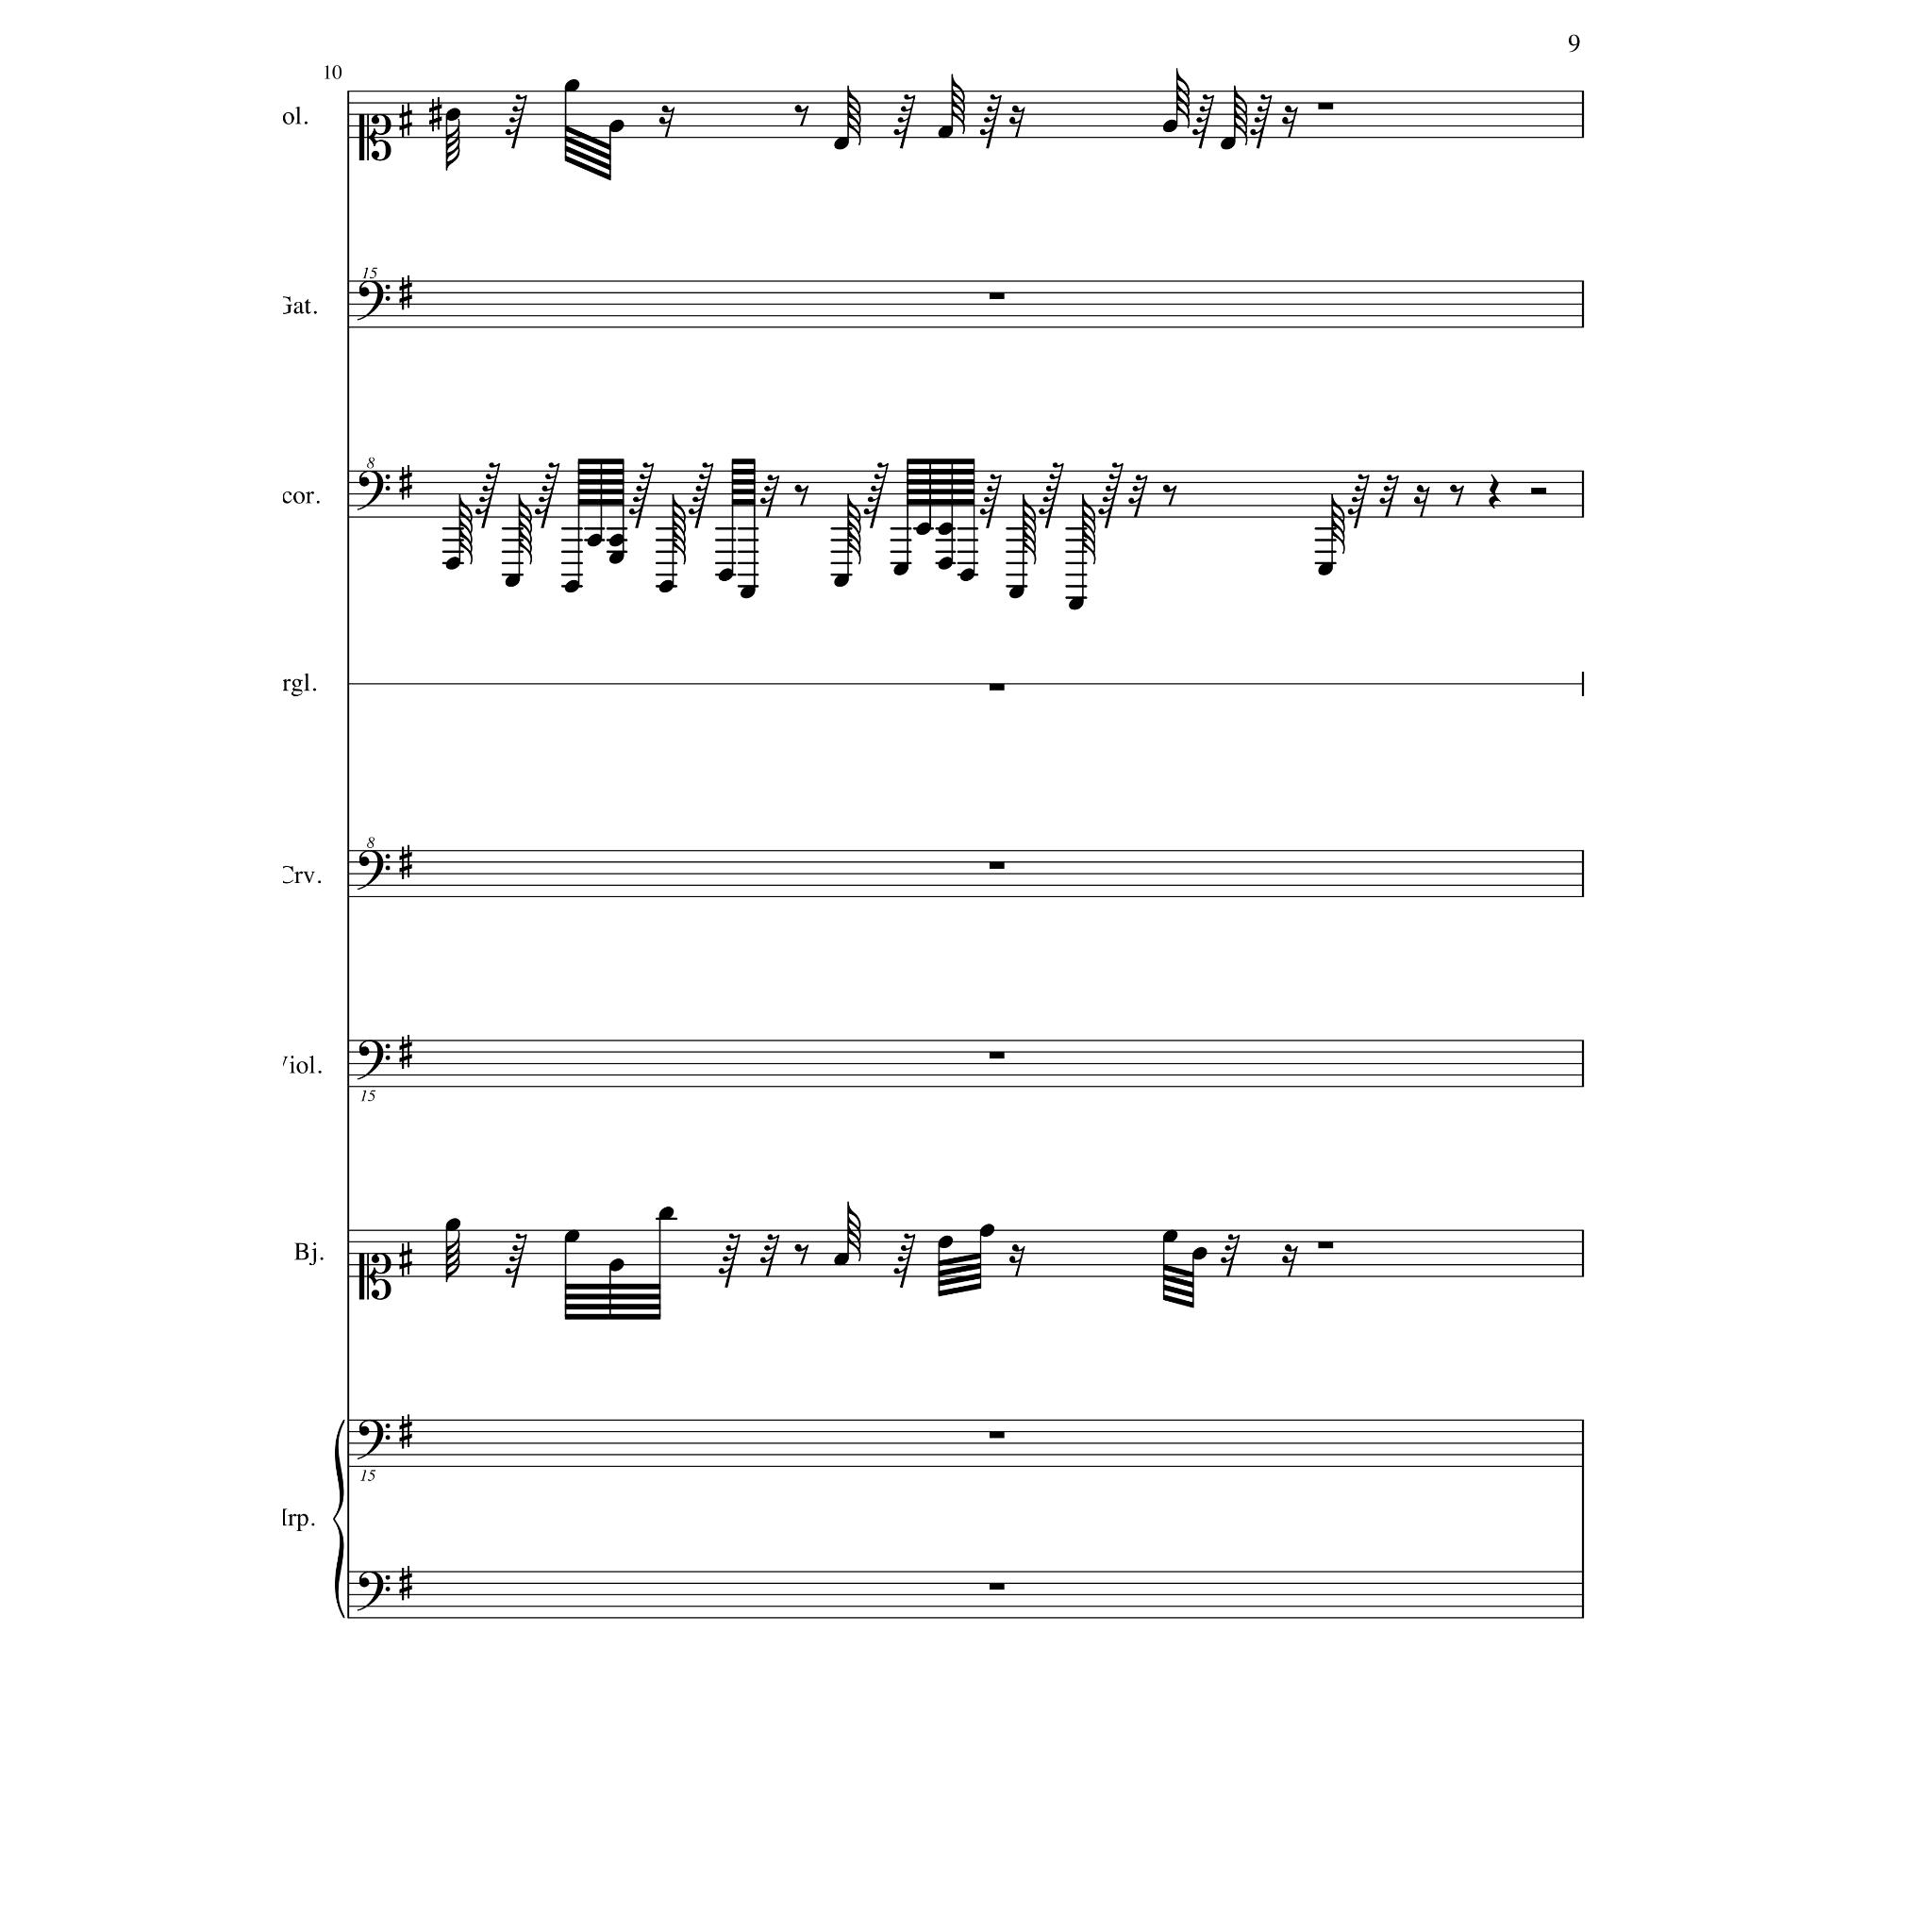brace: (333, 1419, 345, 1621)
fClef: (357, 1571, 391, 1612), (357, 1040, 391, 1081), (357, 1419, 391, 1460), (357, 851, 391, 892), (357, 471, 391, 511), (357, 281, 391, 322)
flag128thUp: (1083, 495, 1097, 566), (518, 495, 533, 566), (847, 495, 862, 566), (672, 495, 686, 566), (1023, 495, 1035, 566), (460, 495, 472, 566)
flag64thDown: (446, 1230, 460, 1283), (446, 119, 460, 172)
flag64thUp: (1332, 494, 1346, 556), (847, 1201, 862, 1261), (952, 74, 966, 134), (1233, 87, 1247, 147), (847, 87, 862, 147), (1177, 69, 1189, 129)
noteheadBlack: (915, 522, 932, 536), (1008, 586, 1024, 600), (1162, 1230, 1178, 1244), (1069, 596, 1085, 610), (893, 563, 909, 577), (959, 568, 975, 582), (938, 1235, 954, 1249), (938, 522, 954, 536), (938, 557, 954, 571), (1221, 136, 1237, 150), (1318, 563, 1334, 577), (444, 108, 460, 122), (444, 557, 460, 571), (444, 1217, 460, 1231), (564, 80, 580, 94), (564, 1230, 580, 1244), (740, 586, 755, 600), (718, 568, 734, 582), (833, 136, 849, 150), (833, 1253, 849, 1267), (609, 1258, 625, 1272), (609, 550, 625, 564), (1162, 120, 1178, 133), (938, 126, 954, 138), (978, 1224, 994, 1237), (1192, 1247, 1208, 1260), (564, 580, 580, 593), (504, 575, 520, 587), (833, 575, 849, 587), (609, 534, 625, 547), (609, 120, 625, 133), (586, 534, 602, 547), (658, 1207, 674, 1219), (658, 580, 674, 593)
rest16th: (1008, 104, 1026, 138), (1008, 1244, 1026, 1277), (1281, 1244, 1299, 1277), (1281, 104, 1299, 138), (658, 104, 676, 138), (1414, 485, 1430, 518)
rest8th: (1449, 485, 1465, 508), (1162, 485, 1177, 508), (794, 1244, 809, 1267), (794, 485, 809, 508), (794, 104, 809, 127)
restHalf: (1530, 488, 1546, 495)
restQuarter: (1488, 474, 1500, 510)
restWhole: (989, 862, 1005, 870), (989, 292, 1005, 301), (1318, 1242, 1334, 1249), (1318, 103, 1334, 110), (989, 685, 1005, 692), (989, 1053, 1005, 1060), (989, 1431, 1005, 1438), (989, 1583, 1005, 1591)
